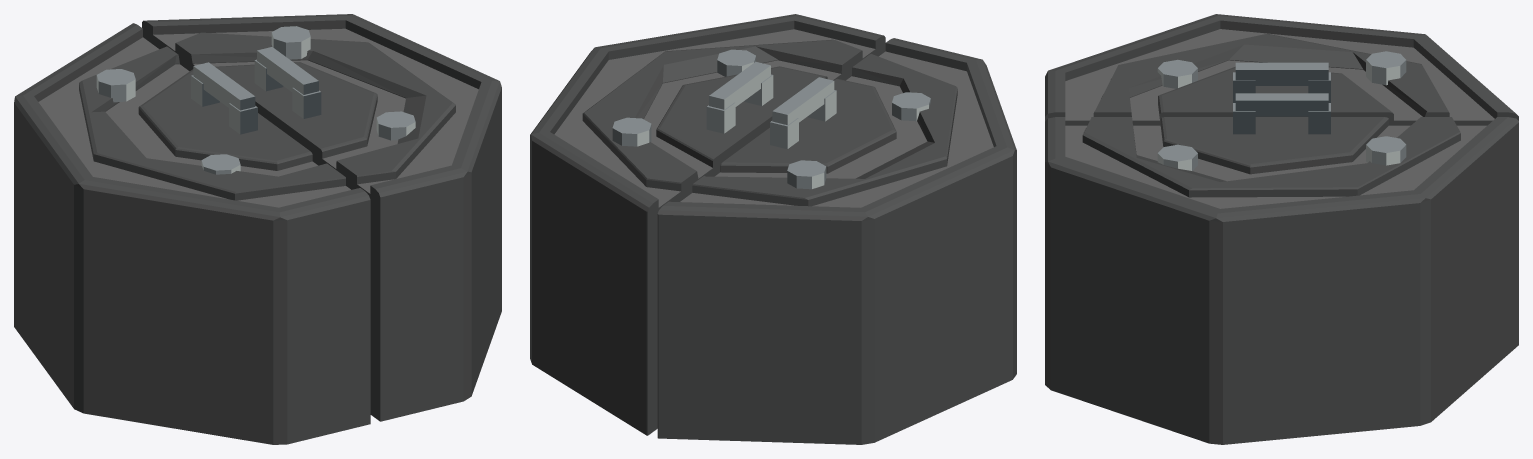
File: stone_door.fbx
The picture shows the model from 3 angles, left to right: view 1: azimuth 30°, elevation 25°; view 2: azimuth 150°, elevation 25°; view 3: azimuth 270°, elevation 25°; orthographic projection.
Visible parts, largest first — view 1: stone_door_panel_left, stone_door_panel_right; view 2: stone_door_panel_left, stone_door_panel_right; view 3: stone_door_panel_right, stone_door_panel_left.
Part boxes in pixels (x1,y1,x2,y2): stone_door_panel_left: (14, 23, 370, 444); stone_door_panel_right: (142, 14, 501, 421); stone_door_panel_left: (657, 38, 1016, 444); stone_door_panel_right: (530, 14, 885, 435); stone_door_panel_right: (1045, 93, 1518, 444); stone_door_panel_left: (1045, 14, 1518, 125).
Size of the model in its own units: 3.87 by 2.29 by 3.78.
1 material, 1 textured.
